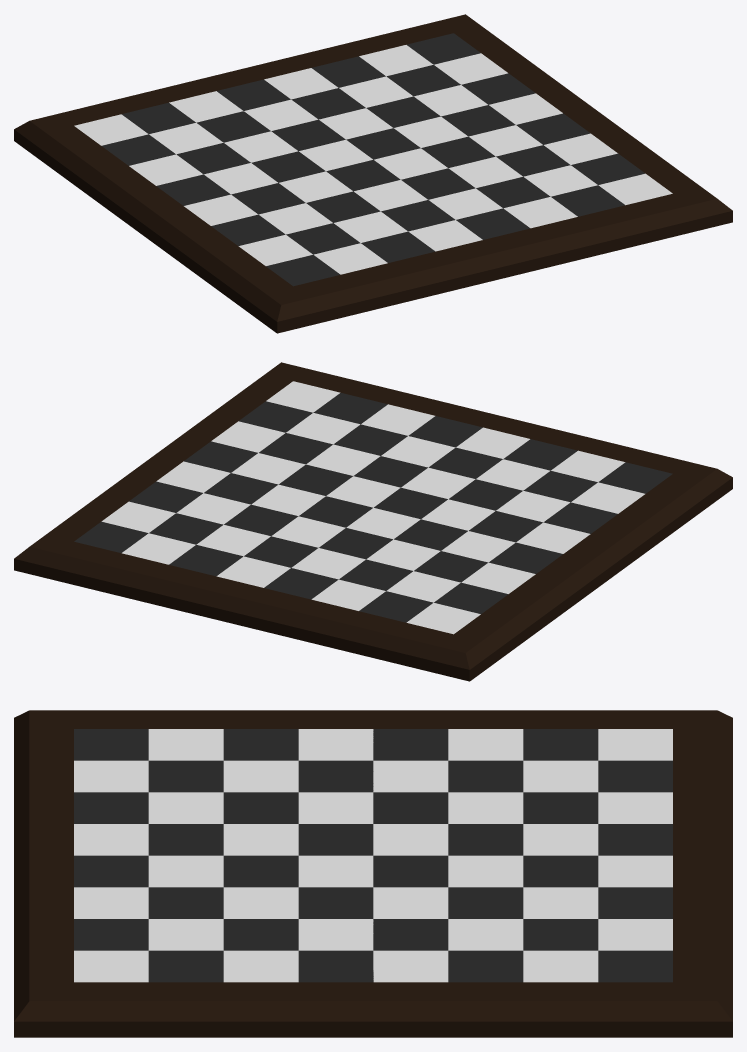
File: ChessBoard.fbx
3 renders of one model, top to bottom at view 1: azimuth 30°, elevation 25°; view 2: azimuth 150°, elevation 25°; view 3: azimuth 270°, elevation 25°, orthographic. The views are drawn at different scales.
Visible parts, largest first — view 1: Cube, C7, D2, F8, G3, G4, A3, A4, A5, A7, B2, C2 (+53 smaller); view 2: Cube, B4, B3, C8, E2, F7, A1, A4, A6, A8, B6, B5 (+53 smaller); view 3: Cube, B7, B4, B1, C1, C4, C7, E4, E7, F7, F4, F1 (+53 smaller).
Part boxes in pixels (box(x1,y1,x2,y2)): Cube: box(14, 14, 732, 333); C7: box(258, 203, 332, 234); D2: box(468, 125, 542, 156); F8: box(129, 154, 203, 185); G3: box(339, 76, 413, 107); G4: box(291, 88, 365, 119); A3: box(503, 197, 577, 228); A4: box(456, 208, 530, 239); A5: box(408, 220, 482, 251); A7: box(313, 243, 387, 274); B2: box(523, 165, 597, 196); C2: box(496, 145, 570, 176); Cube: box(14, 362, 732, 681); B4: box(381, 436, 455, 467); B3: box(333, 424, 407, 455); C8: box(543, 502, 617, 533); E2: box(204, 473, 278, 504); F7: box(414, 551, 488, 582); A1: box(266, 381, 340, 412); A4: box(408, 416, 482, 447); A6: box(503, 439, 577, 470); A8: box(598, 462, 672, 493); B6: box(476, 459, 550, 490); B5: box(428, 447, 502, 478); Cube: box(14, 710, 732, 1037); B7: box(148, 760, 223, 792); B4: box(148, 855, 223, 887); B1: box(148, 950, 223, 982); C1: box(223, 950, 298, 982); C4: box(223, 855, 298, 887); C7: box(223, 760, 298, 792); E4: box(373, 855, 448, 887); E7: box(373, 760, 448, 792); F7: box(448, 760, 523, 792); F4: box(448, 855, 523, 887); F1: box(448, 950, 523, 982).
Bounding box in the file's own units: 1200 × 55.24 × 1200.
